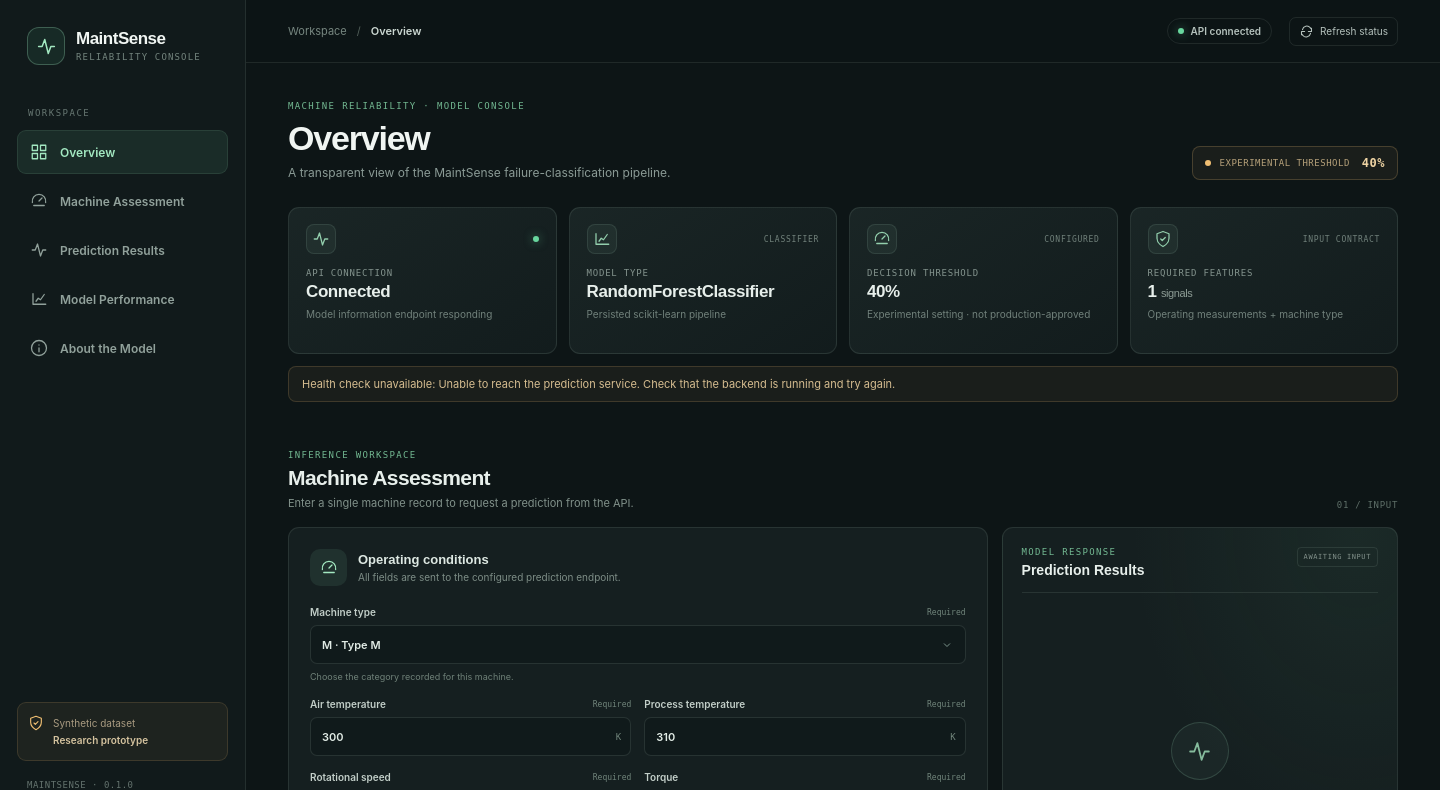
Scenario: MaintSense dashboard › clears a partial-status error after a successful status refresh
The image size is (1440, 790).
Expected: the message shows "Health check unavailable", [302,377,895,391]
Click the button with aria-label "Refresh API status": x=1344, y=31 [1289,16,1398,46]
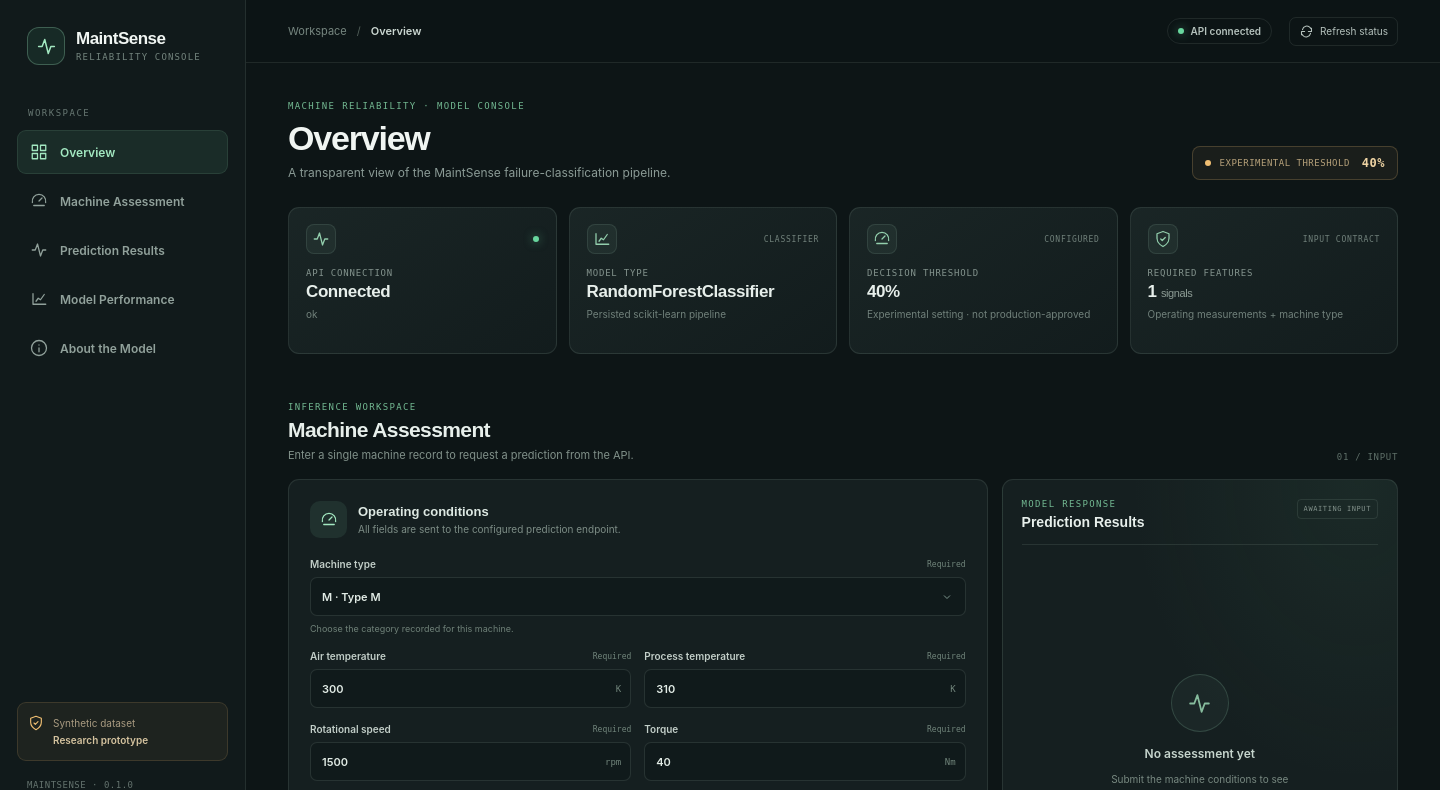
Expected: the text "API connected" is shown, [1167,18,1272,44]
Expected: the message is gone
